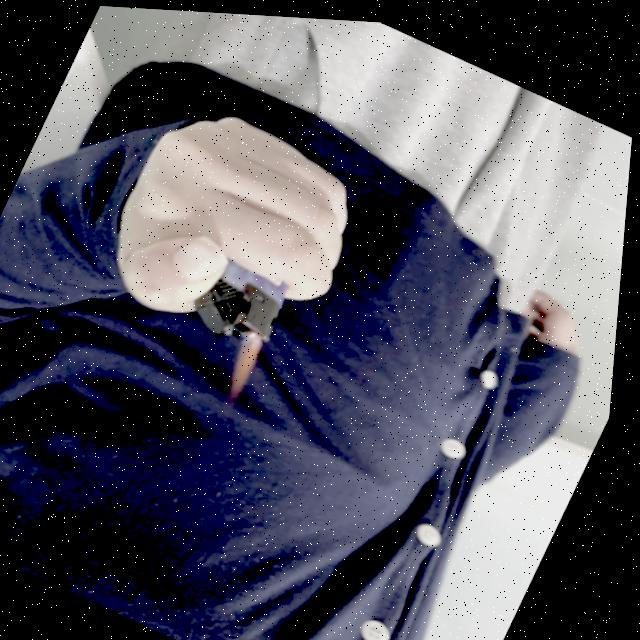Fire: (222, 327, 276, 400)
